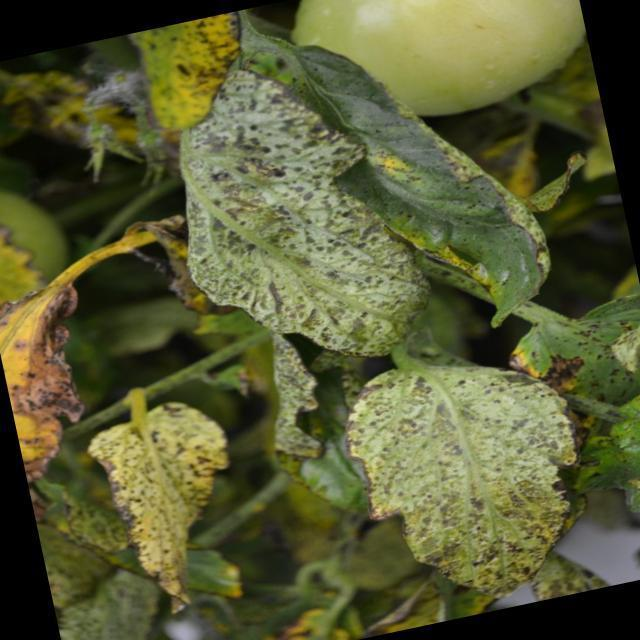Bacterial Spot: (175, 40, 422, 384), (346, 341, 582, 613), (70, 389, 258, 621)
